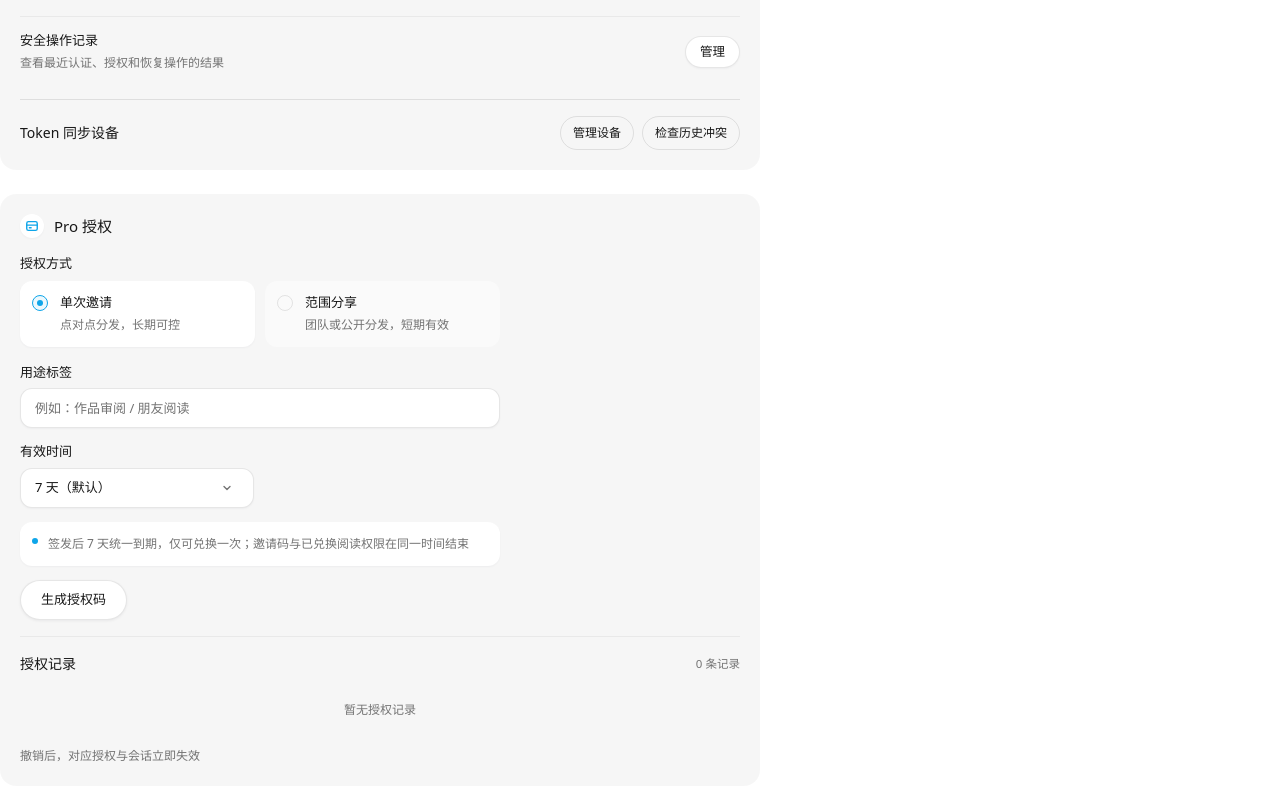
Test: sends an explicit permanent invitation lifetime without a separate redemption window
The width and height of the screenshot is (1280, 786).
(page scrolled)
Select "永久（手动撤销）" in the dropdown labelled "有效时间": (46, 451) [20,442,72,460]
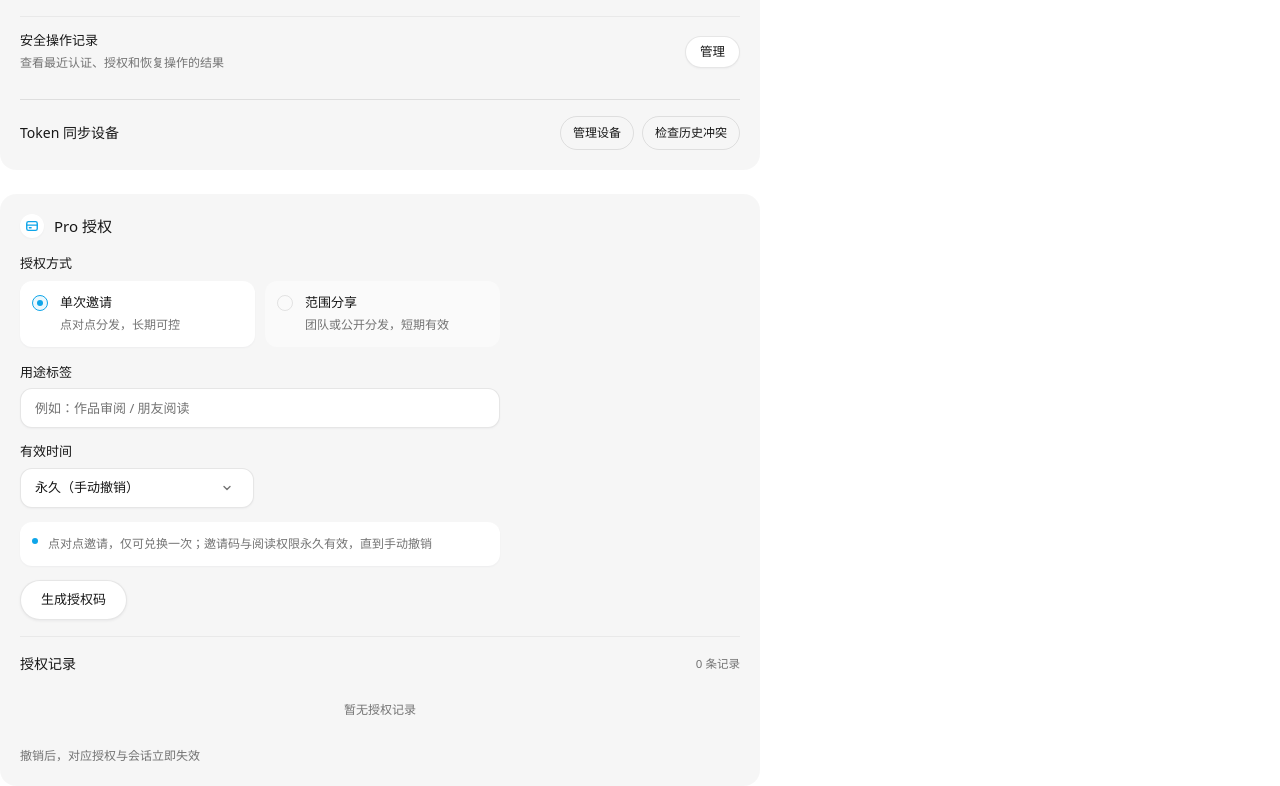
Click the button "生成授权码": (74, 600) [20,580,127,620]
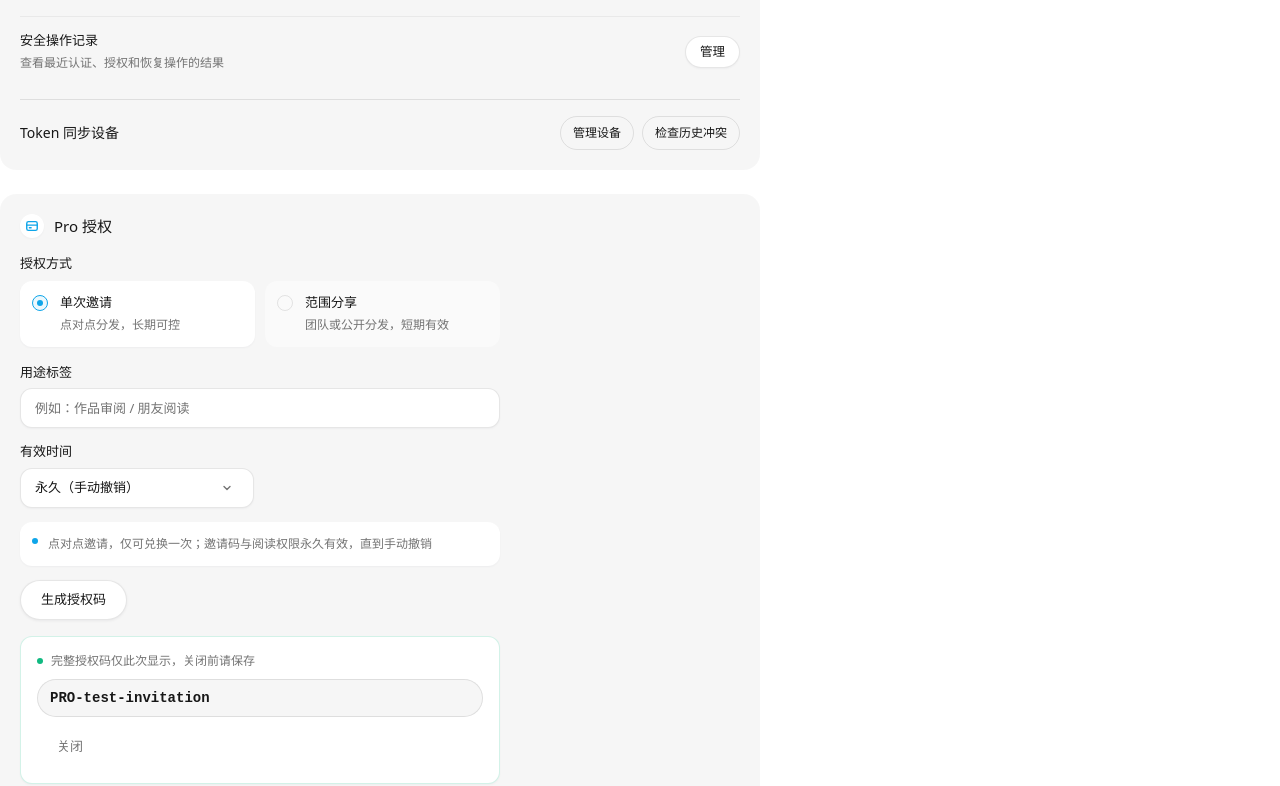
expect the text "PRO-test-invitation" is shown: met, box [37,679,483,717]
